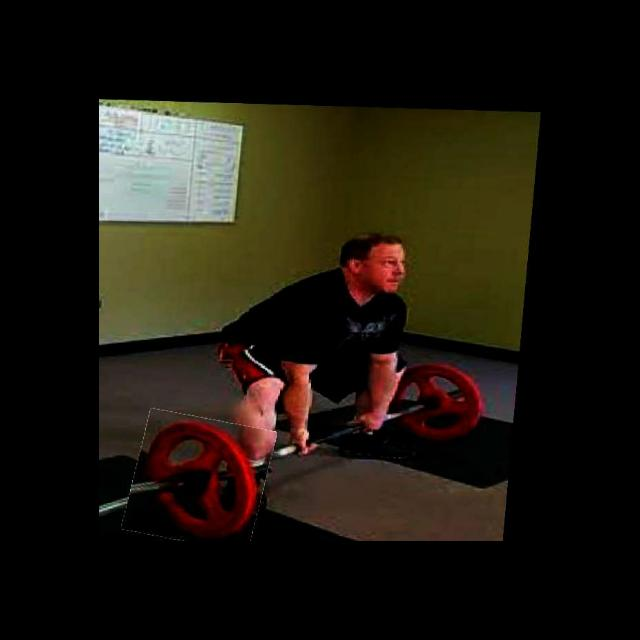barbell: (132, 412, 280, 541)
